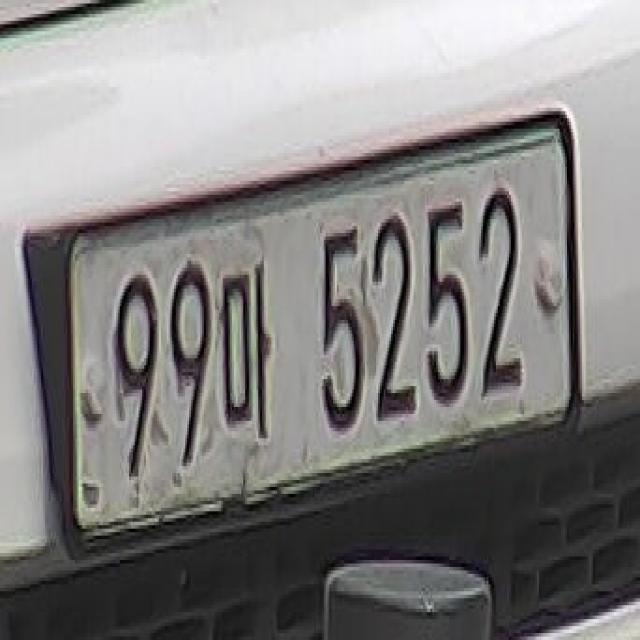2: (369, 210, 421, 440), (478, 184, 530, 398)
5: (310, 222, 368, 441), (424, 194, 474, 426)
9: (98, 262, 164, 489), (166, 255, 217, 476)
license_plate: (61, 116, 579, 553)
ma: (220, 256, 276, 462)
